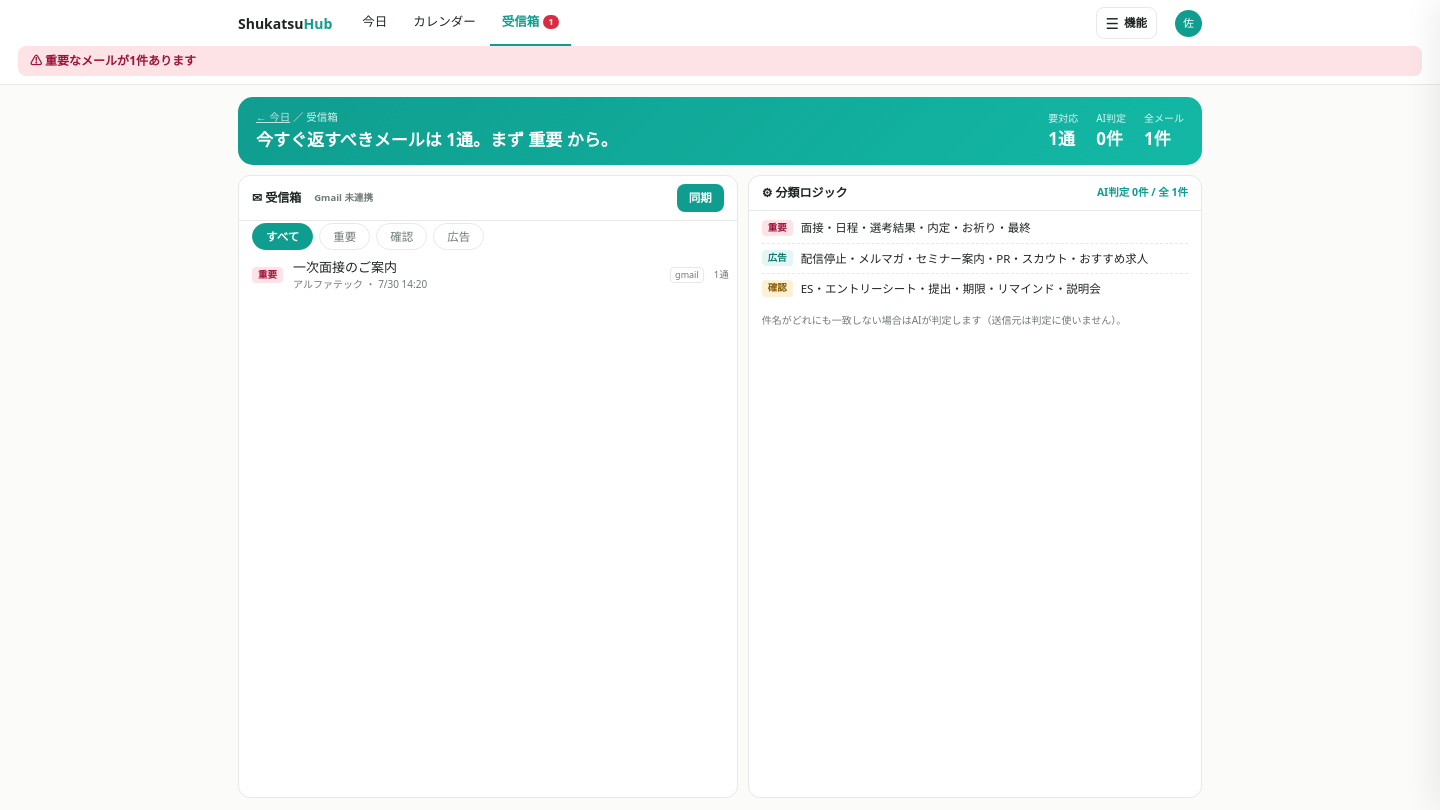
Test: 同期 › 未連携のまま同期しても止まらず、seed のままだと分かる
Click the button "同期" at (700, 198), box [677,184,724,212]
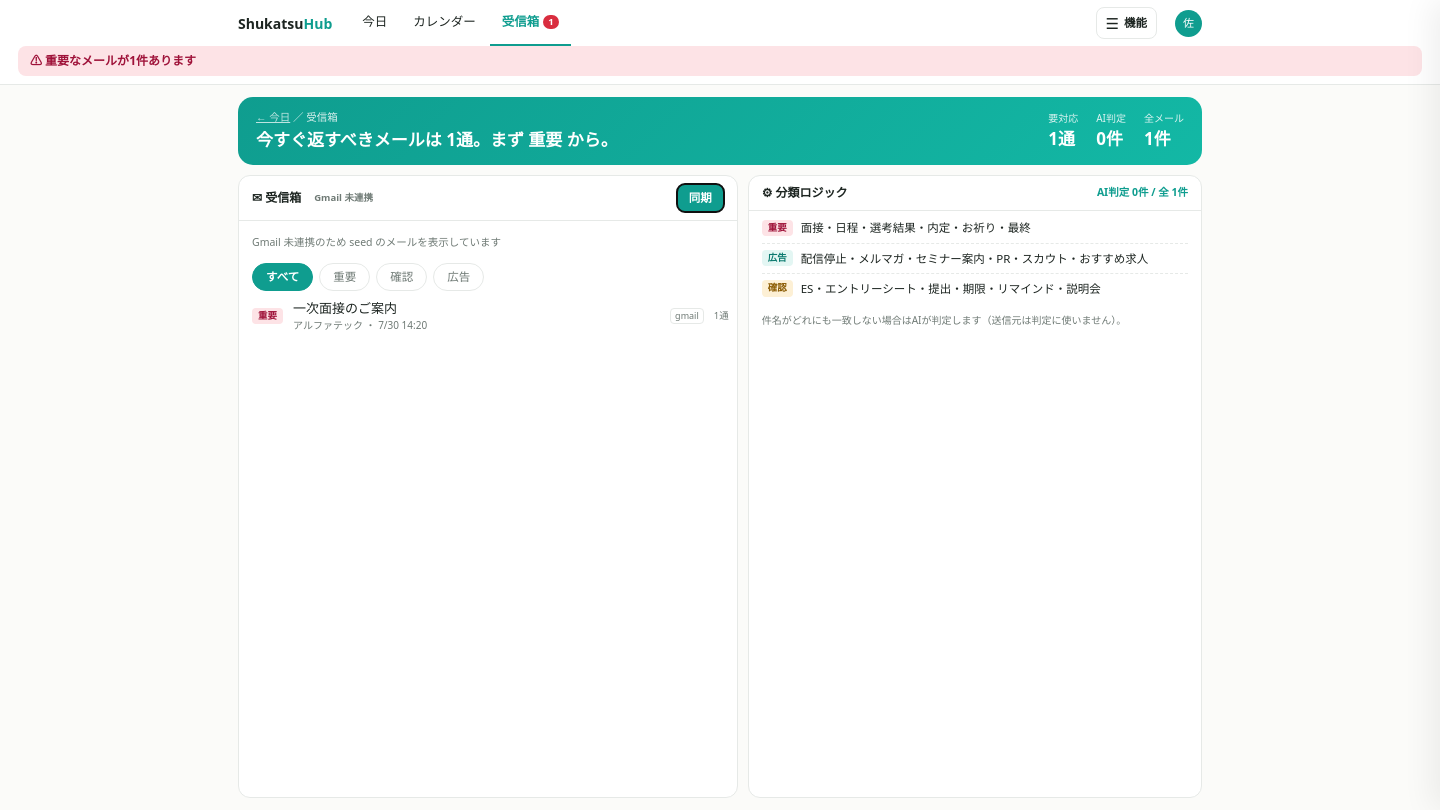
Expected: the text "一次面接のご案内" is shown, [293,298,397,316]
Expected: the text "Gmail 未連携のため seed のメールを表示しています" is shown, [252,235,501,249]
